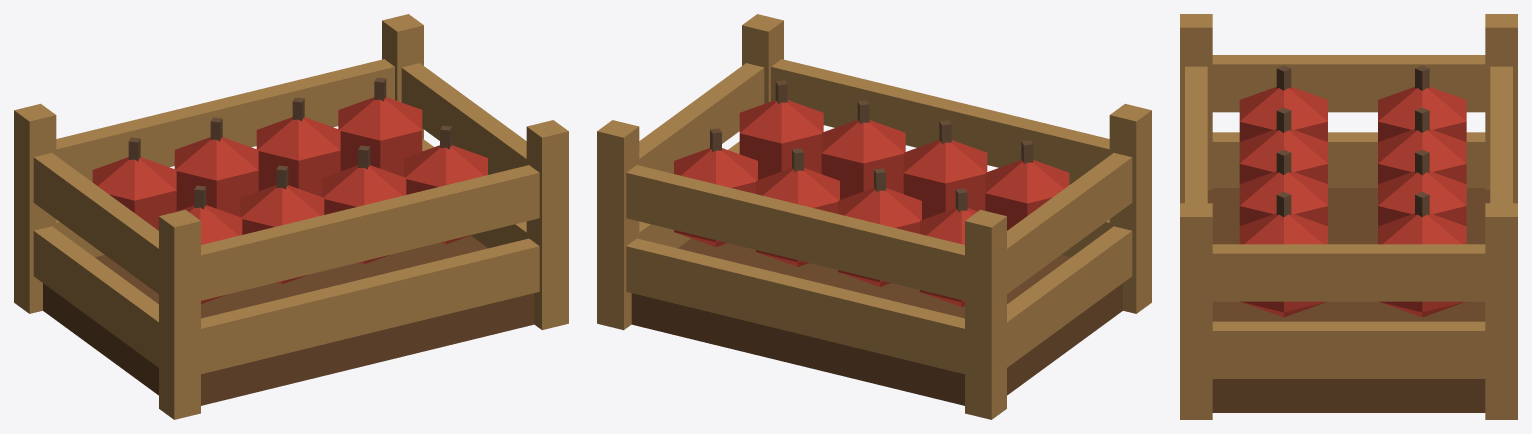
The model's file is FruitCrate.obj.
The picture shows the model from 3 angles, left to right: view 1: azimuth 30°, elevation 25°; view 2: azimuth 150°, elevation 25°; view 3: azimuth 270°, elevation 25°; orthographic projection. The views are drawn at different scales.
Parts seen in each view (by area): view 1: FruitCrate; view 2: FruitCrate; view 3: FruitCrate.
Part boxes in pixels (x1,y1,x2,y2): FruitCrate: (14,14,568,419); FruitCrate: (597,14,1151,419); FruitCrate: (1180,14,1517,419).
Size of the model in its own units: 1.18 by 0.55 by 0.83.
